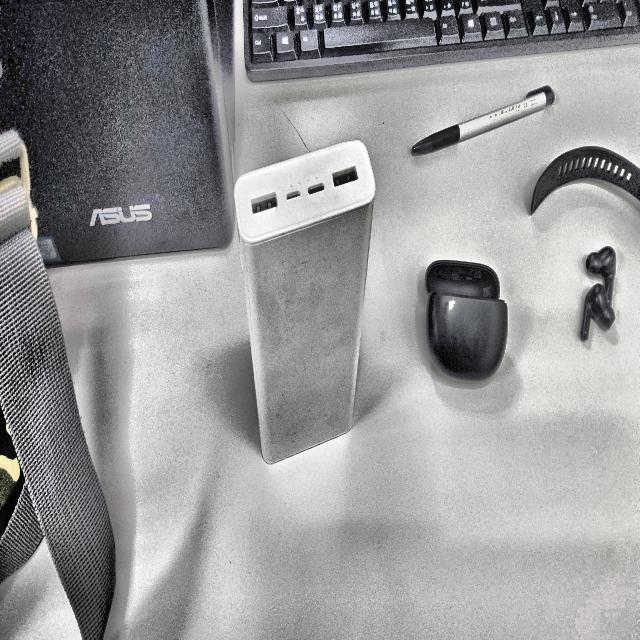Bluetooth headphones: (425, 260, 508, 381), (580, 247, 616, 341)
Electronic watch: (530, 147, 640, 214)
Keyboard: (242, 0, 640, 82)
Power bank: (234, 141, 375, 463)
